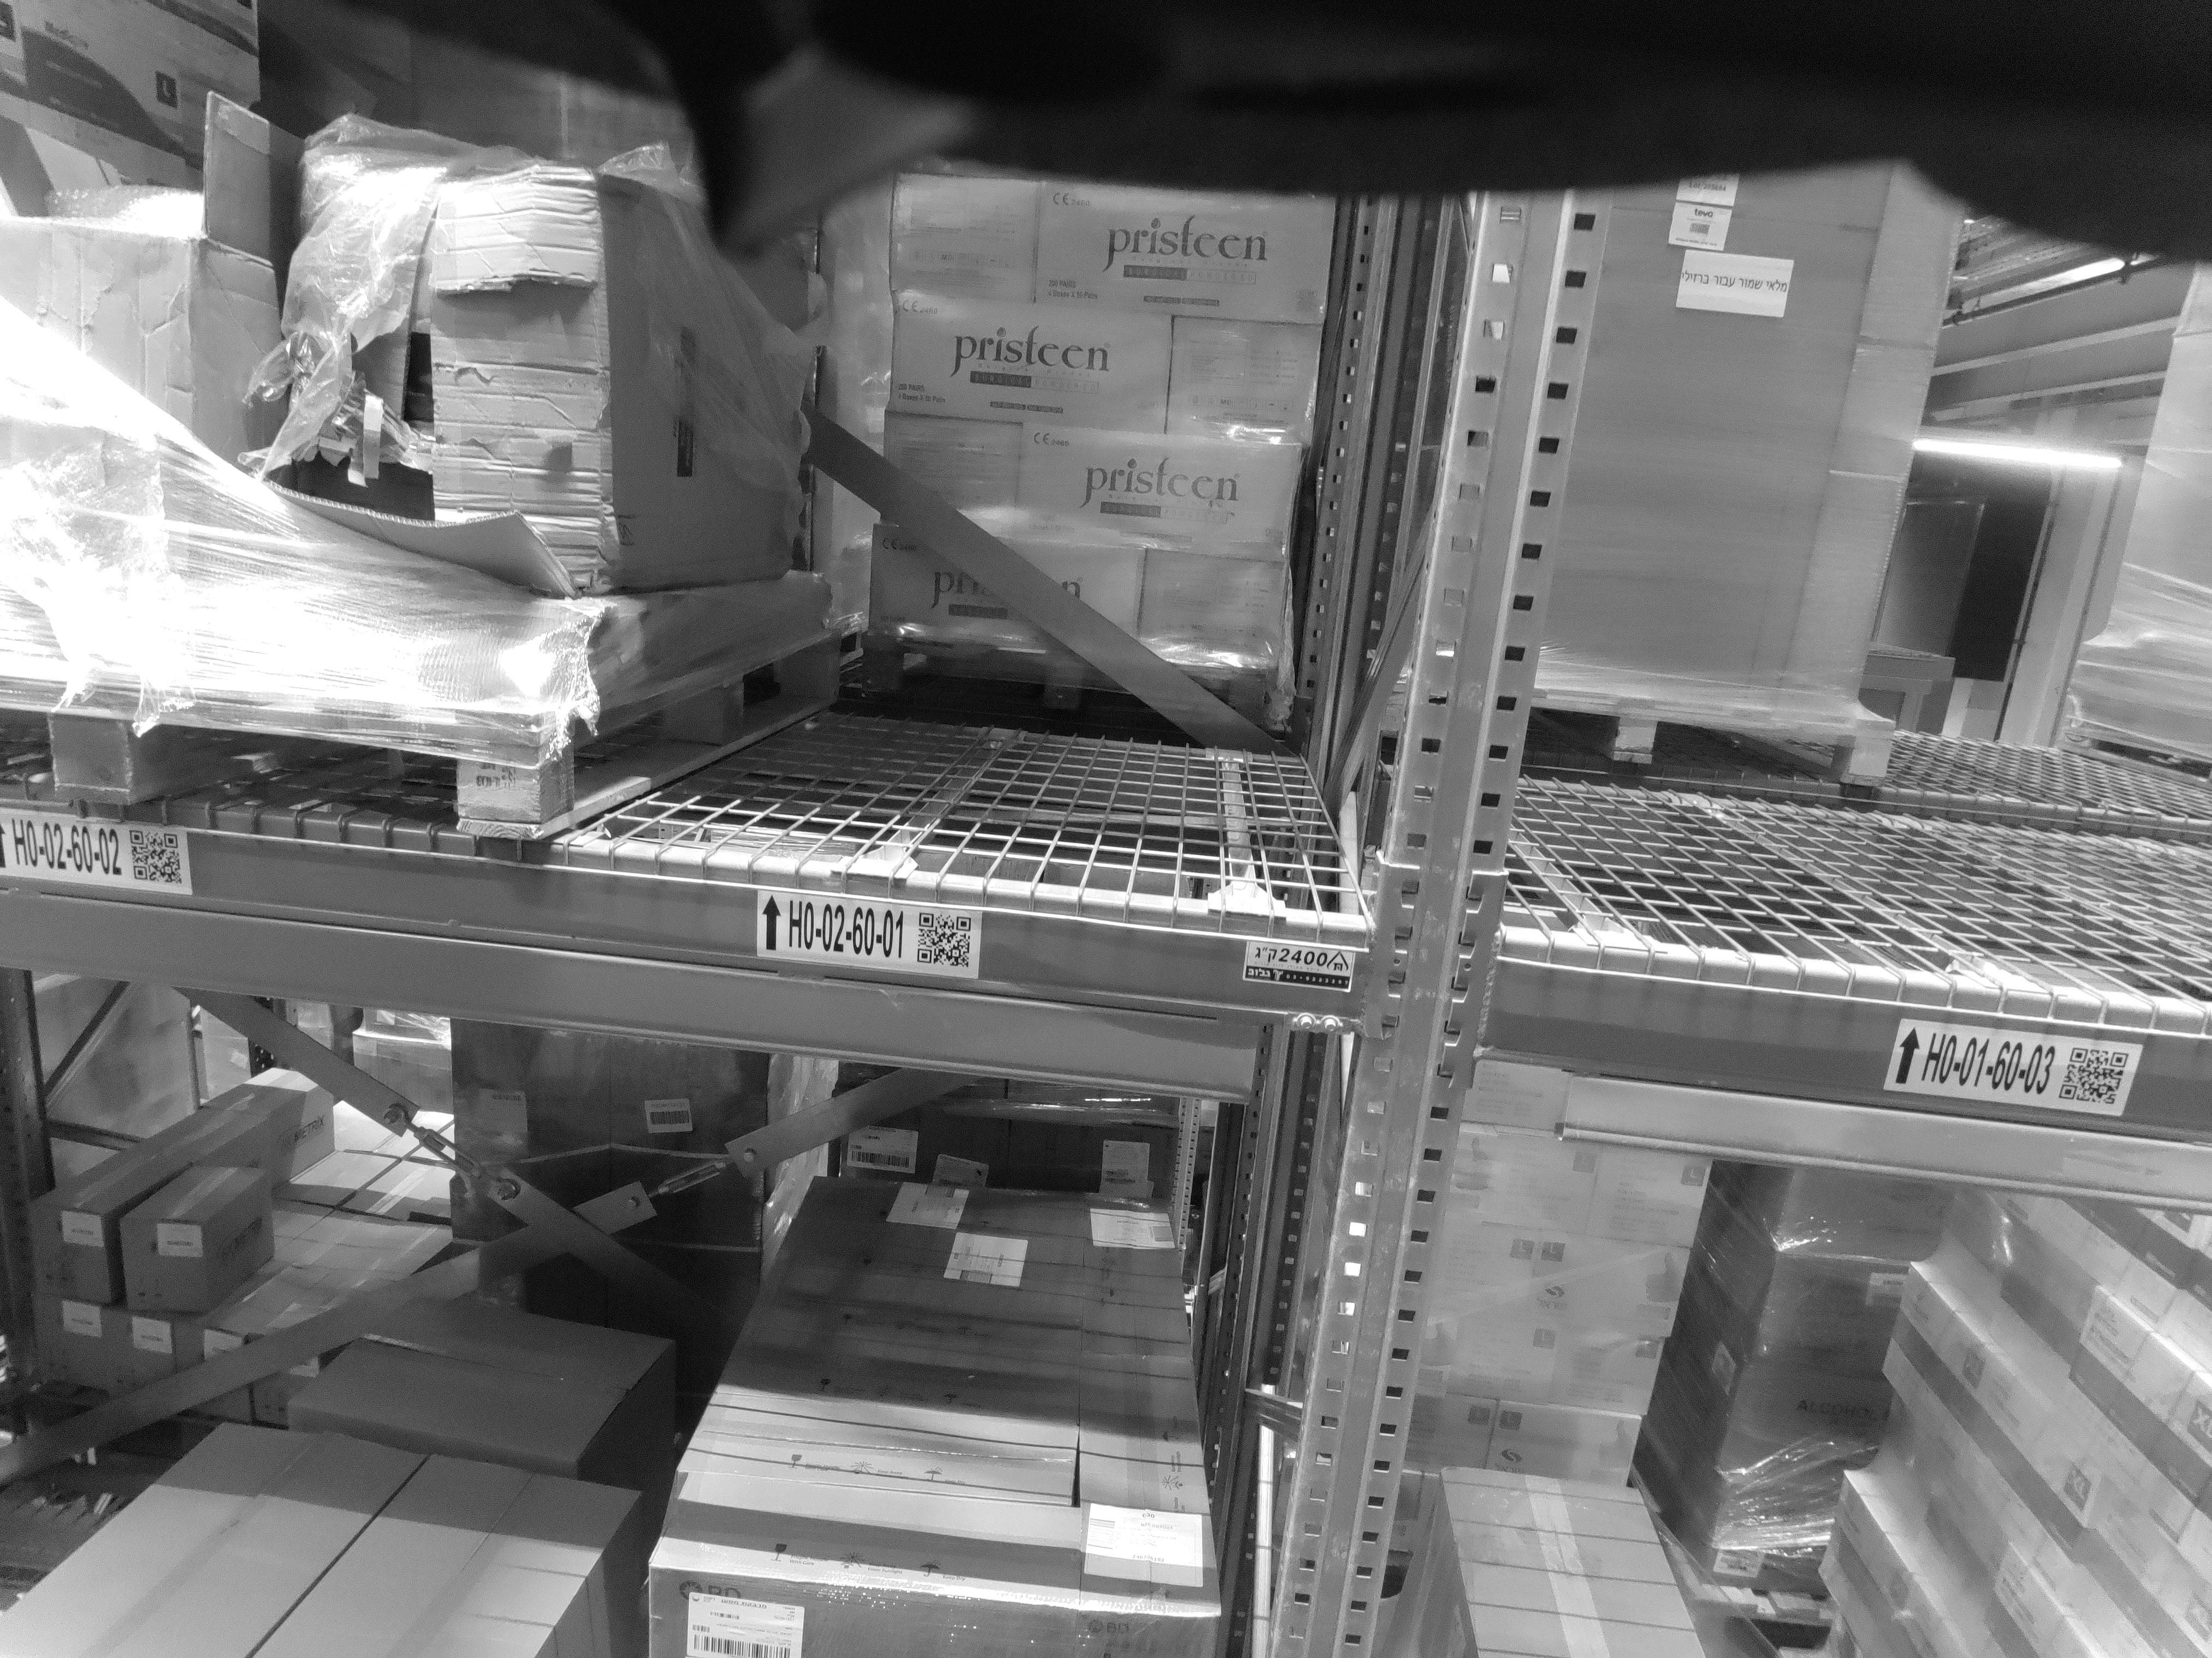empty-shelf: (1630, 293, 2160, 921), (829, 199, 1312, 848)
